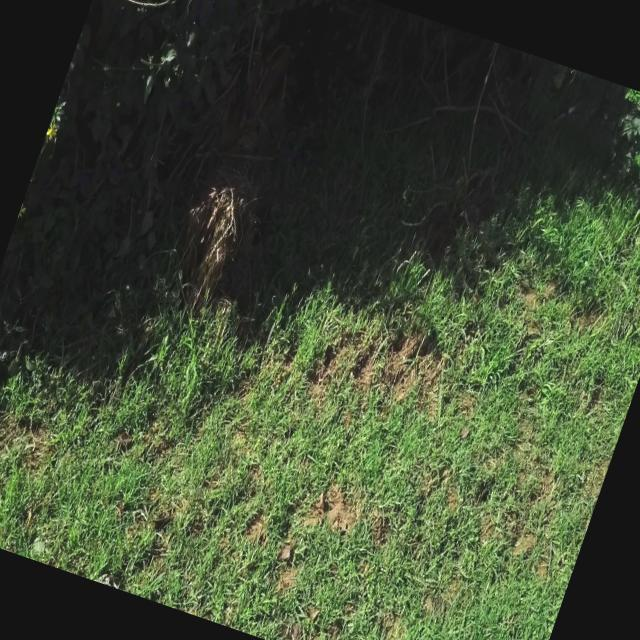Mysore-Thorn-Weed: (585, 85, 640, 226)
